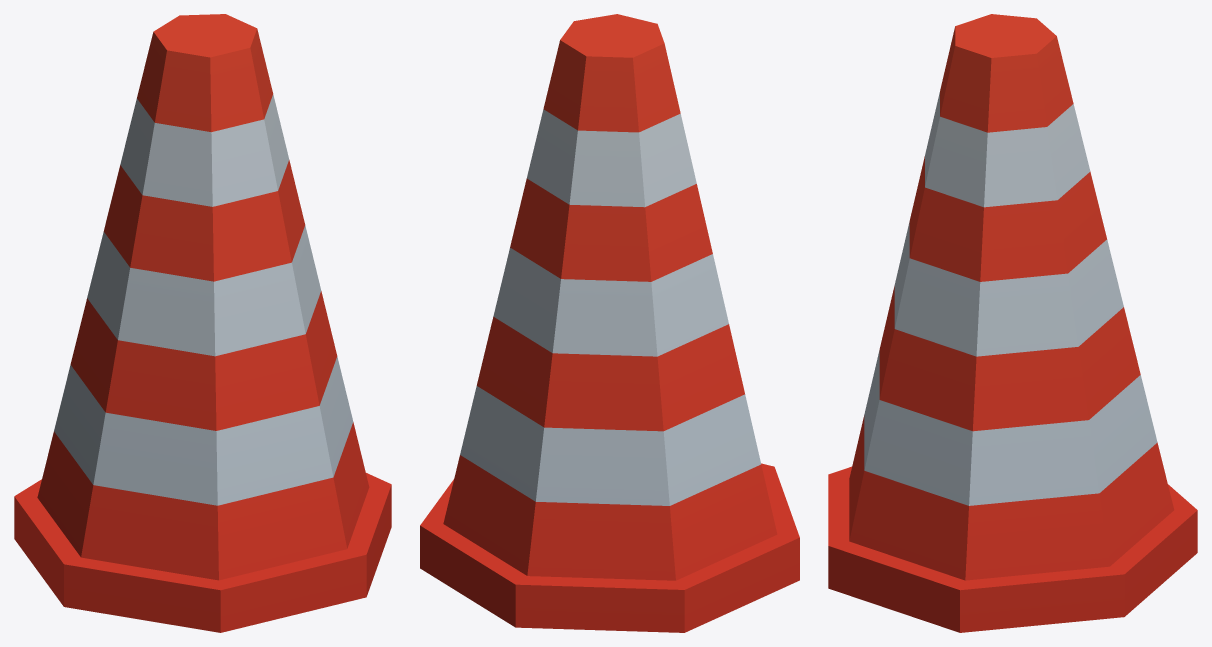
The model's file is Conus_1.fbx.
The picture shows the model from 3 angles, left to right: view 1: azimuth 30°, elevation 25°; view 2: azimuth 150°, elevation 25°; view 3: azimuth 270°, elevation 25°; orthographic projection.
Visible parts, largest first — view 1: Conus_1; view 2: Conus_1; view 3: Conus_1.
Part boxes in pixels (x1=…): Conus_1: x1=14, y1=14, x2=391, y2=632; Conus_1: x1=420, y1=14, x2=799, y2=632; Conus_1: x1=828, y1=14, x2=1197, y2=632.
Bounding box in the file's own units: 78.61 × 118 × 76.64.
